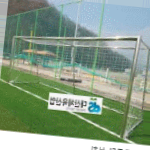goals: (9, 33, 150, 139)
